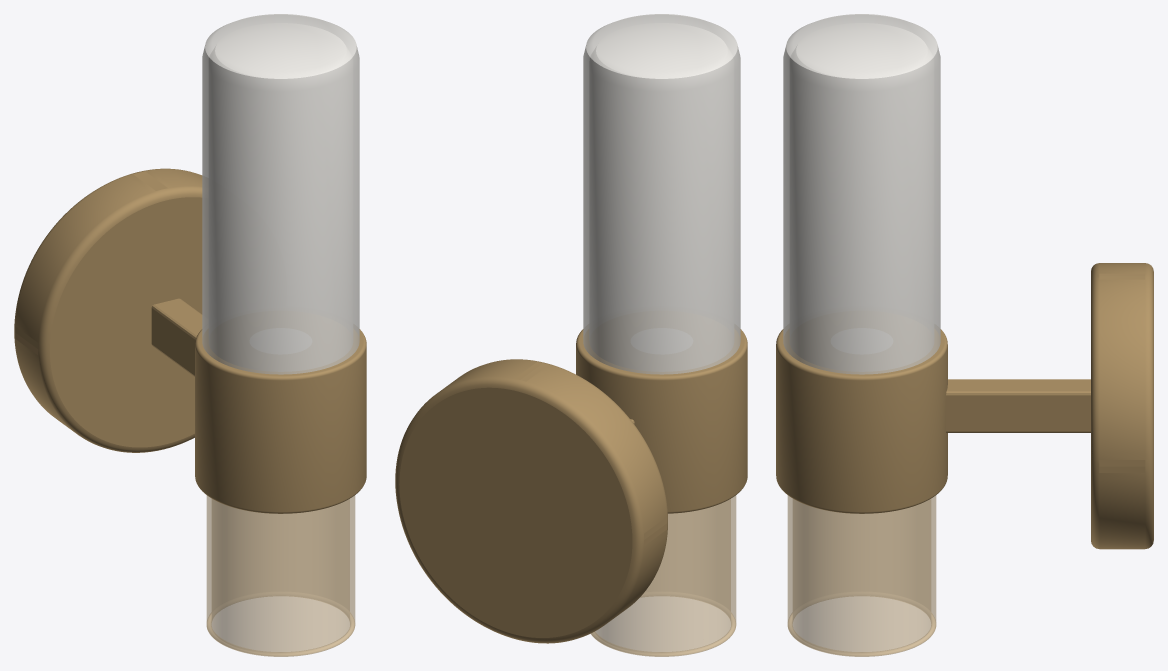
3 renders of one model, left to right at view 1: azimuth 30°, elevation 25°; view 2: azimuth 150°, elevation 25°; view 3: azimuth 270°, elevation 25°, orthographic.
Visible parts, largest first — view 1: metal, frost, tea; view 2: metal, frost, tea; view 3: frost, metal, tea.
Part boxes in pixels (x1,y1,x2,y2): metal: (14, 168, 366, 513); frost: (202, 14, 359, 374); tea: (206, 495, 355, 656); metal: (395, 329, 747, 643); frost: (583, 14, 740, 374); tea: (591, 495, 736, 656); frost: (783, 14, 940, 374); metal: (776, 263, 1153, 549); tea: (787, 495, 936, 656).
Size of the model in its own units: 0.1 by 0.225 by 0.132.
